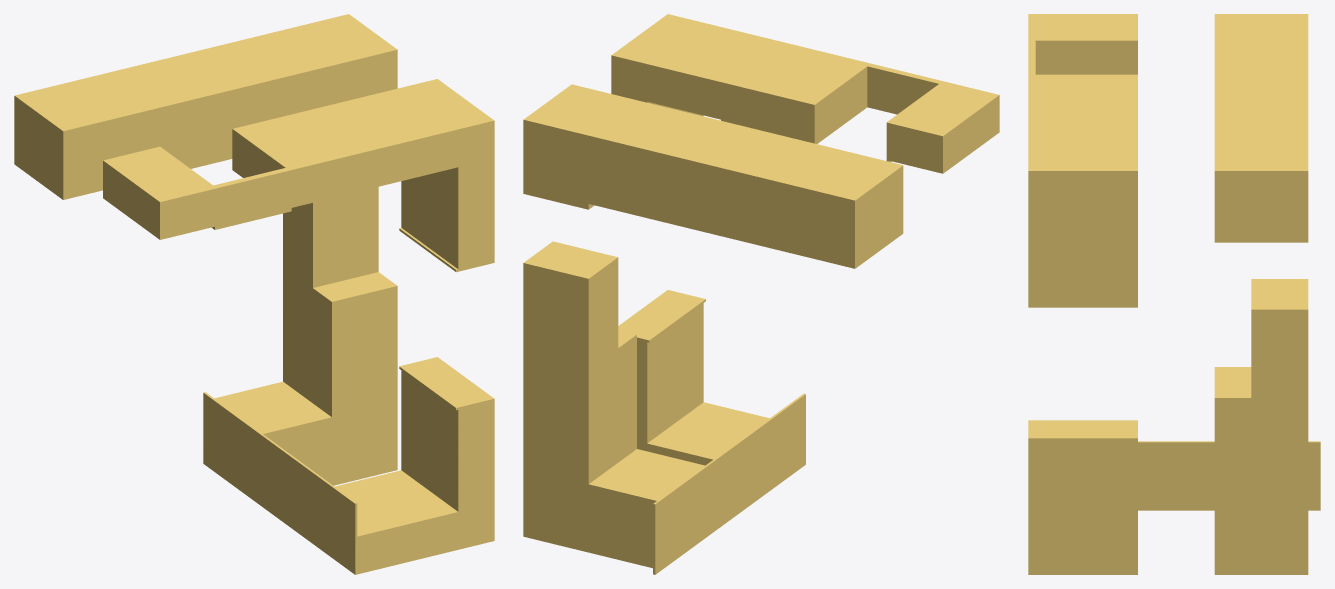
3 views of the same model, side by side, from view 1: azimuth 30°, elevation 25°; view 2: azimuth 150°, elevation 25°; view 3: azimuth 270°, elevation 25° (orthographic). The views are drawn at different scales.
Bounding box in the file's own units: 30.5 × 36.64 × 24.
